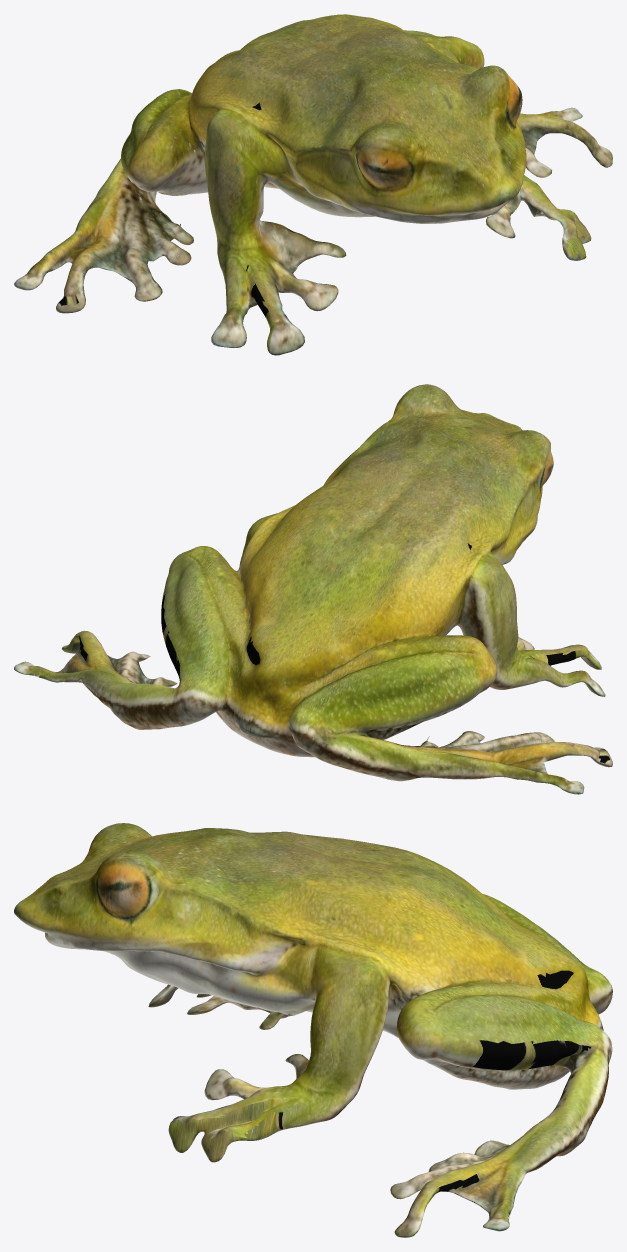
Rendered from kaeru.glb.
The picture shows the model from 3 angles, top to bottom: view 1: azimuth 30°, elevation 25°; view 2: azimuth 150°, elevation 25°; view 3: azimuth 270°, elevation 25°; orthographic projection. The views are drawn at different scales.
Visible parts, largest first — view 1: Object_6.001; view 2: Object_6.001; view 3: Object_6.001.
Boxes of the visible parts, bbox=[...] form: Object_6.001: bbox=[14, 14, 612, 355]; Object_6.001: bbox=[14, 384, 612, 794]; Object_6.001: bbox=[14, 823, 612, 1237].
Size of the model in its own units: 4 by 1.64 by 3.41.
1 material, 1 textured.
